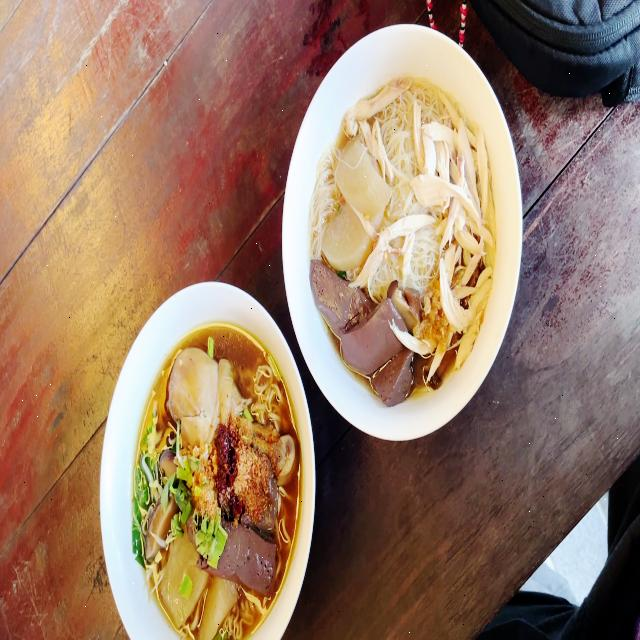boiled_chicken_blood_jelly: (305, 261, 365, 336), (341, 305, 399, 362), (223, 530, 275, 592), (379, 356, 412, 405), (265, 463, 280, 531)
chicken_drumstick: (168, 346, 292, 478)
chicken_shredded: (422, 97, 488, 379), (361, 213, 428, 288), (347, 76, 408, 130)
daikon_radish: (338, 138, 388, 223), (160, 541, 207, 622), (323, 204, 371, 271), (205, 572, 233, 640)
noodle: (313, 80, 490, 386), (128, 332, 298, 638)
